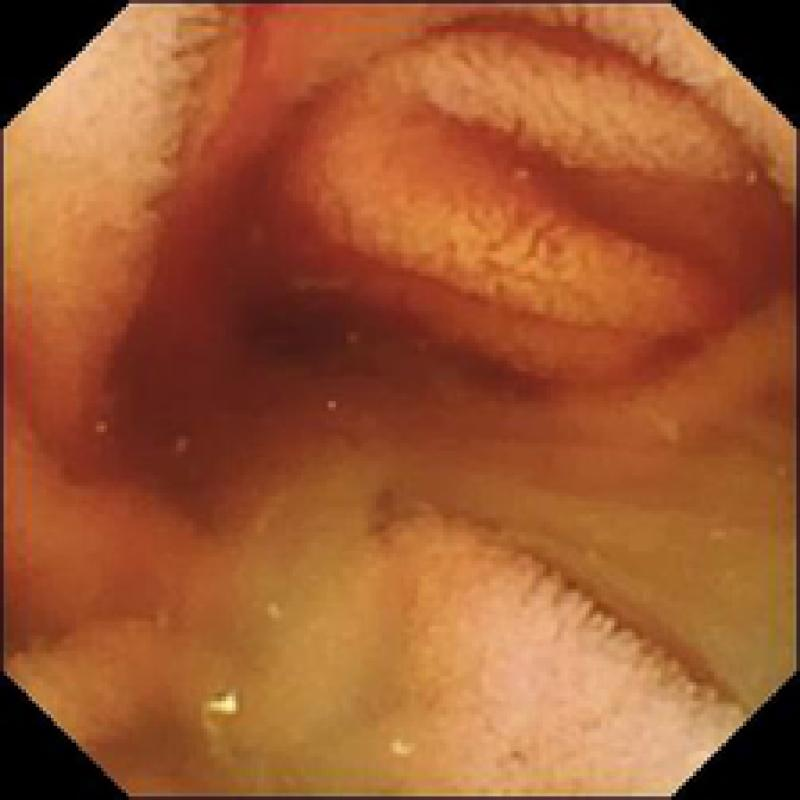bleeding: (110, 0, 800, 493)
